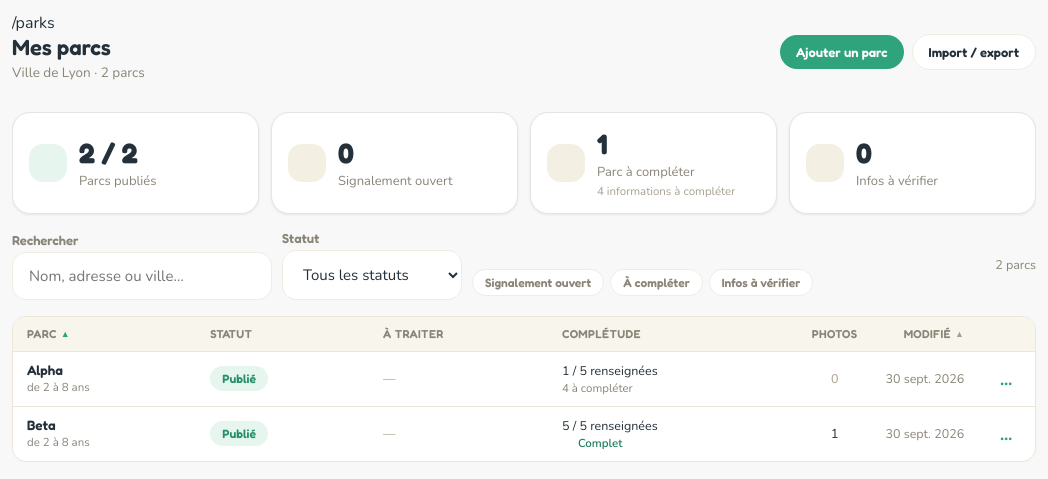
Test case: CommuneParks — Mes parcs (COLL-03B) › a KPI card applies its filter
expect the text "Alpha" is shown: met, box [27,362,63,378]
Click the button "Parc à compléter" at [654, 162], box [530,112,777,214]
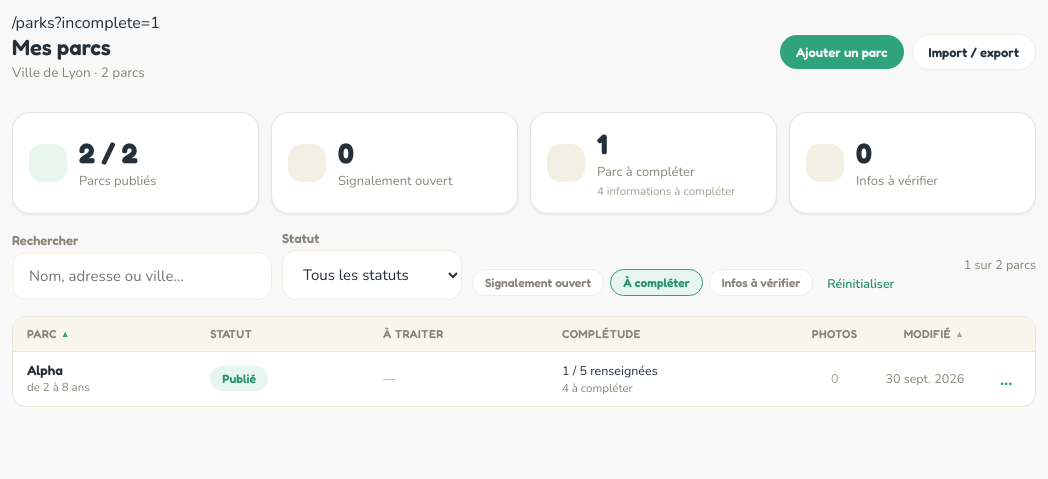
expect the text with test id "loc" shows "incomplete=1": met, box [12,12,160,34]
